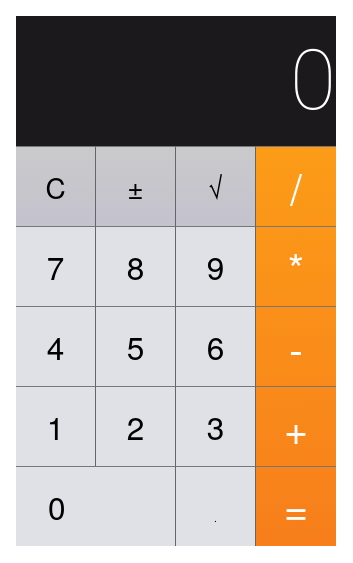
Test case: Calculator Tests › should display 2 when "1 + 1 = " is clicked
The width and height of the screenshot is (353, 563).
Click the button with class "key-1" at (56, 426), box [16,386,96,466]
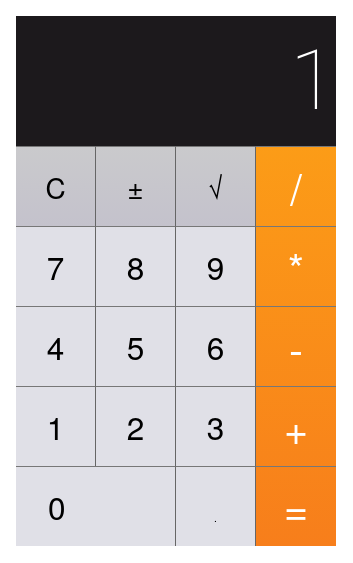
Click the button with class "key-add" at (296, 426), box [256,386,336,466]
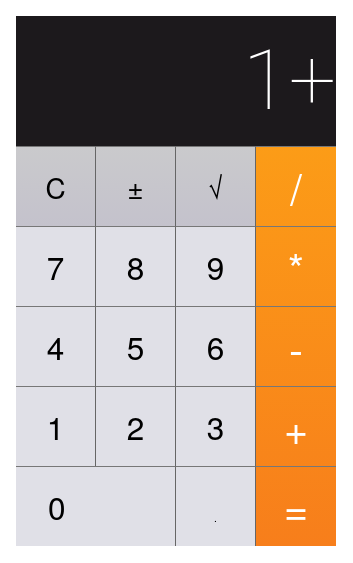
Click the button with class "key-1" at (56, 426), box [16,386,96,466]
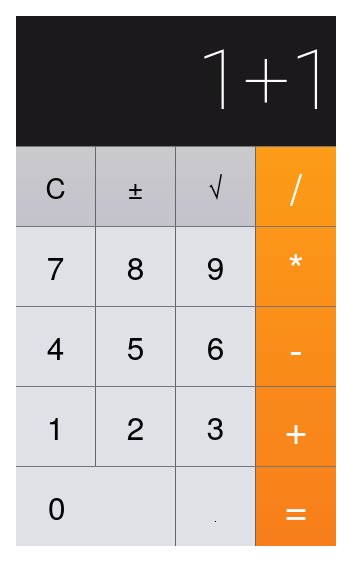
Click the button with class "key-equals" at (296, 506), box [256,466,336,546]
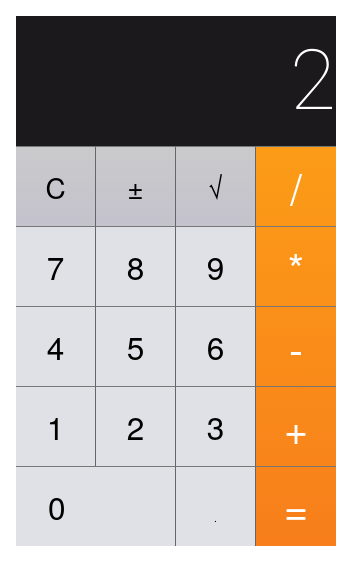
Expected: the text with class "calculator-display" reads "2", [16,16,336,146]
